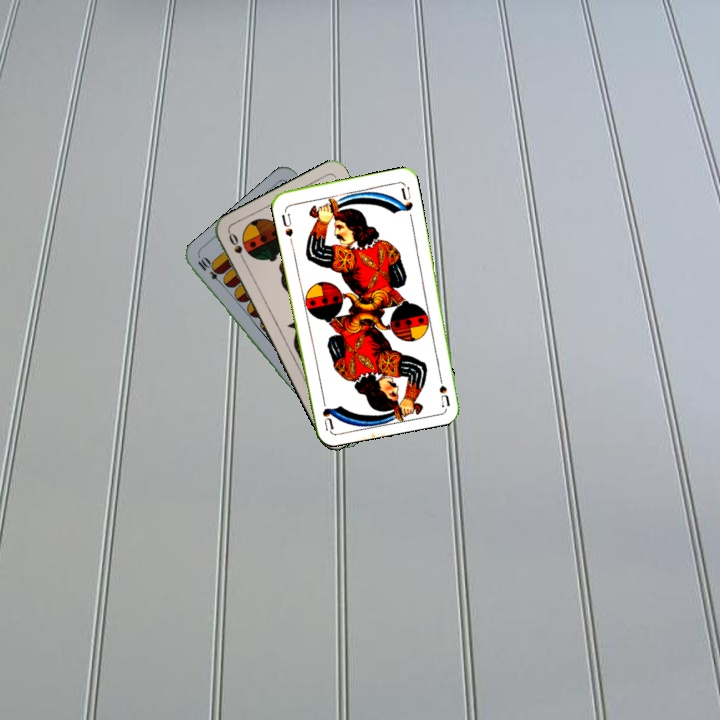E10: (194, 254, 227, 288)
SO: (224, 229, 249, 267)
SU: (434, 367, 452, 408), (278, 205, 296, 239)
